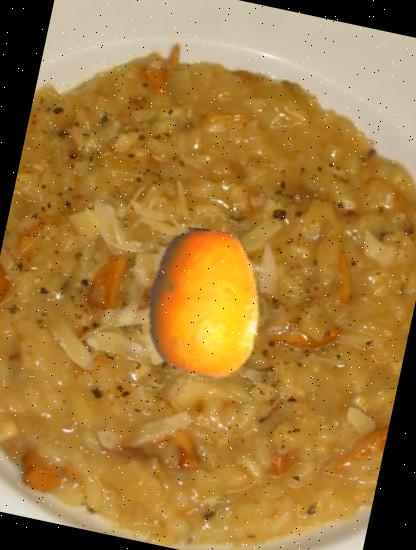Kumquats: (119, 216, 292, 390)
